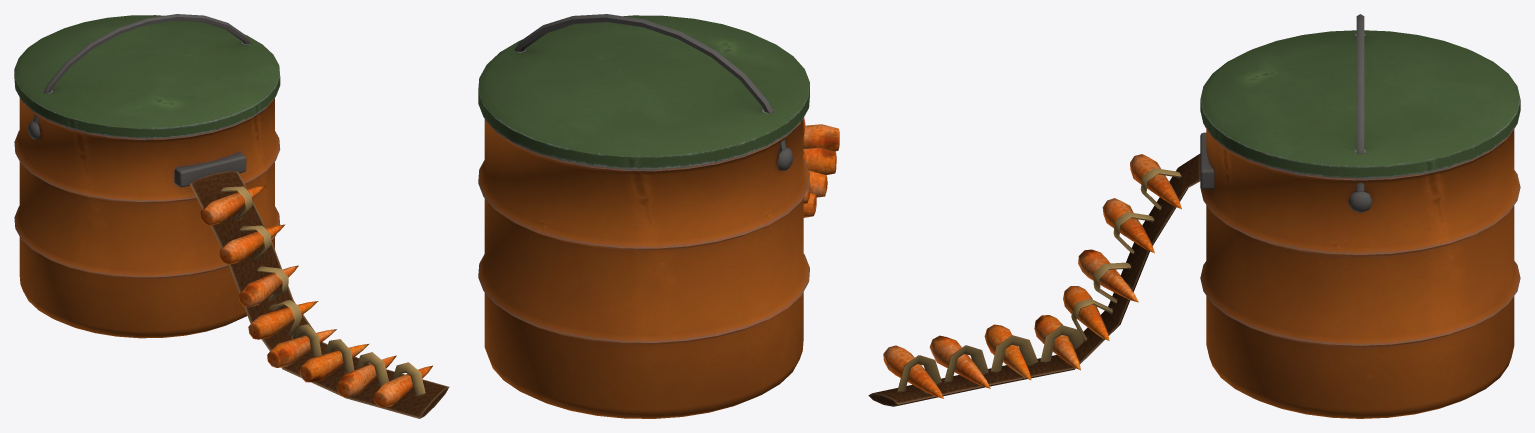
File: ammo_heavy.glb
The picture shows the model from 3 angles, left to right: view 1: azimuth 30°, elevation 25°; view 2: azimuth 150°, elevation 25°; view 3: azimuth 270°, elevation 25°; orthographic projection. The views are drawn at different scales.
Parts seen in each view (by area): view 1: ammo_heavy; view 2: ammo_heavy; view 3: ammo_heavy.
Part boxes in pixels (left/top/right/bottom): ammo_heavy: left=14, top=14, right=449, bottom=418; ammo_heavy: left=478, top=14, right=839, bottom=418; ammo_heavy: left=868, top=14, right=1520, bottom=418.
Size of the model in its own units: 0.2116 by 0.2328 by 0.4235.
Materials: 1 (1 with a texture image).
